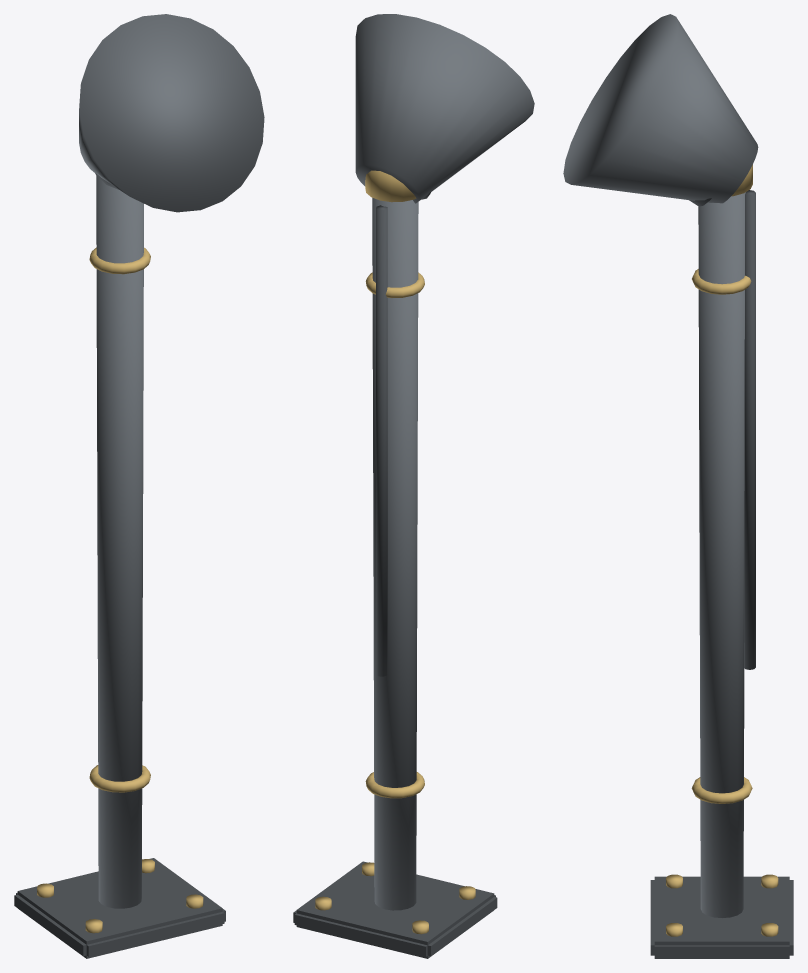
Rendered from horn_mast_ext.glb.
3 views of the same model, side by side, from view 1: azimuth 30°, elevation 25°; view 2: azimuth 150°, elevation 25°; view 3: azimuth 270°, elevation 25° (orthographic). The views are drawn at different scales.
Visible parts, largest first — view 1: Pole, HornFlare, BasePlate, StrapLow, StrapHigh; view 2: Pole, HornFlare, BasePlate, CableRun, Collar, StrapLow, StrapHigh; view 3: Pole, HornFlare, BasePlate, CableRun, StrapLow, StrapHigh.
Part boxes in pixels (x1,y1,x2,y2): Pole: (96,175,143,908); HornFlare: (79,14,264,212); BasePlate: (14,858,225,958); StrapLow: (89,765,150,792); StrapHigh: (89,247,150,274); Pole: (372,198,418,910); HornFlare: (355,14,534,203); BasePlate: (293,861,497,958); CableRun: (376,205,387,676); Collar: (365,170,416,202); StrapLow: (365,772,424,798); StrapHigh: (365,272,424,297); Pole: (698,192,745,917); HornFlare: (563,14,758,203); BasePlate: (650,876,793,958); CableRun: (744,190,755,669); StrapLow: (691,777,752,803); StrapHigh: (692,269,751,294).
Bounding box in the file's own units: 0.42 × 2.09 × 0.4833.
